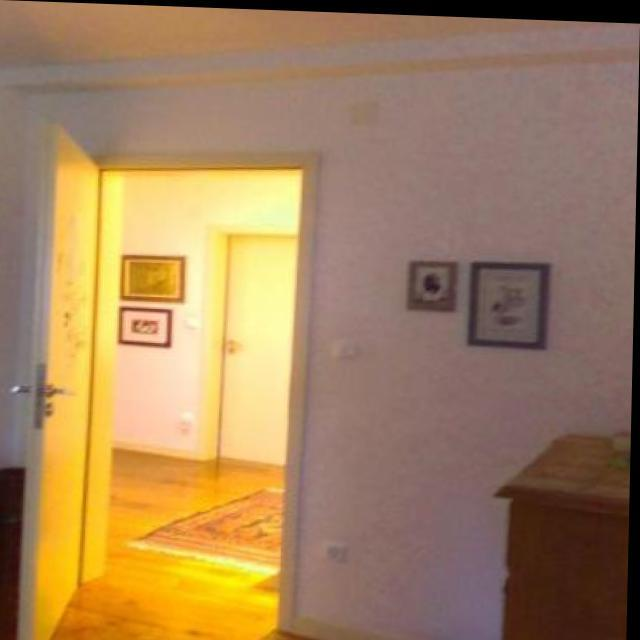door_handle: (44, 379, 80, 401)
